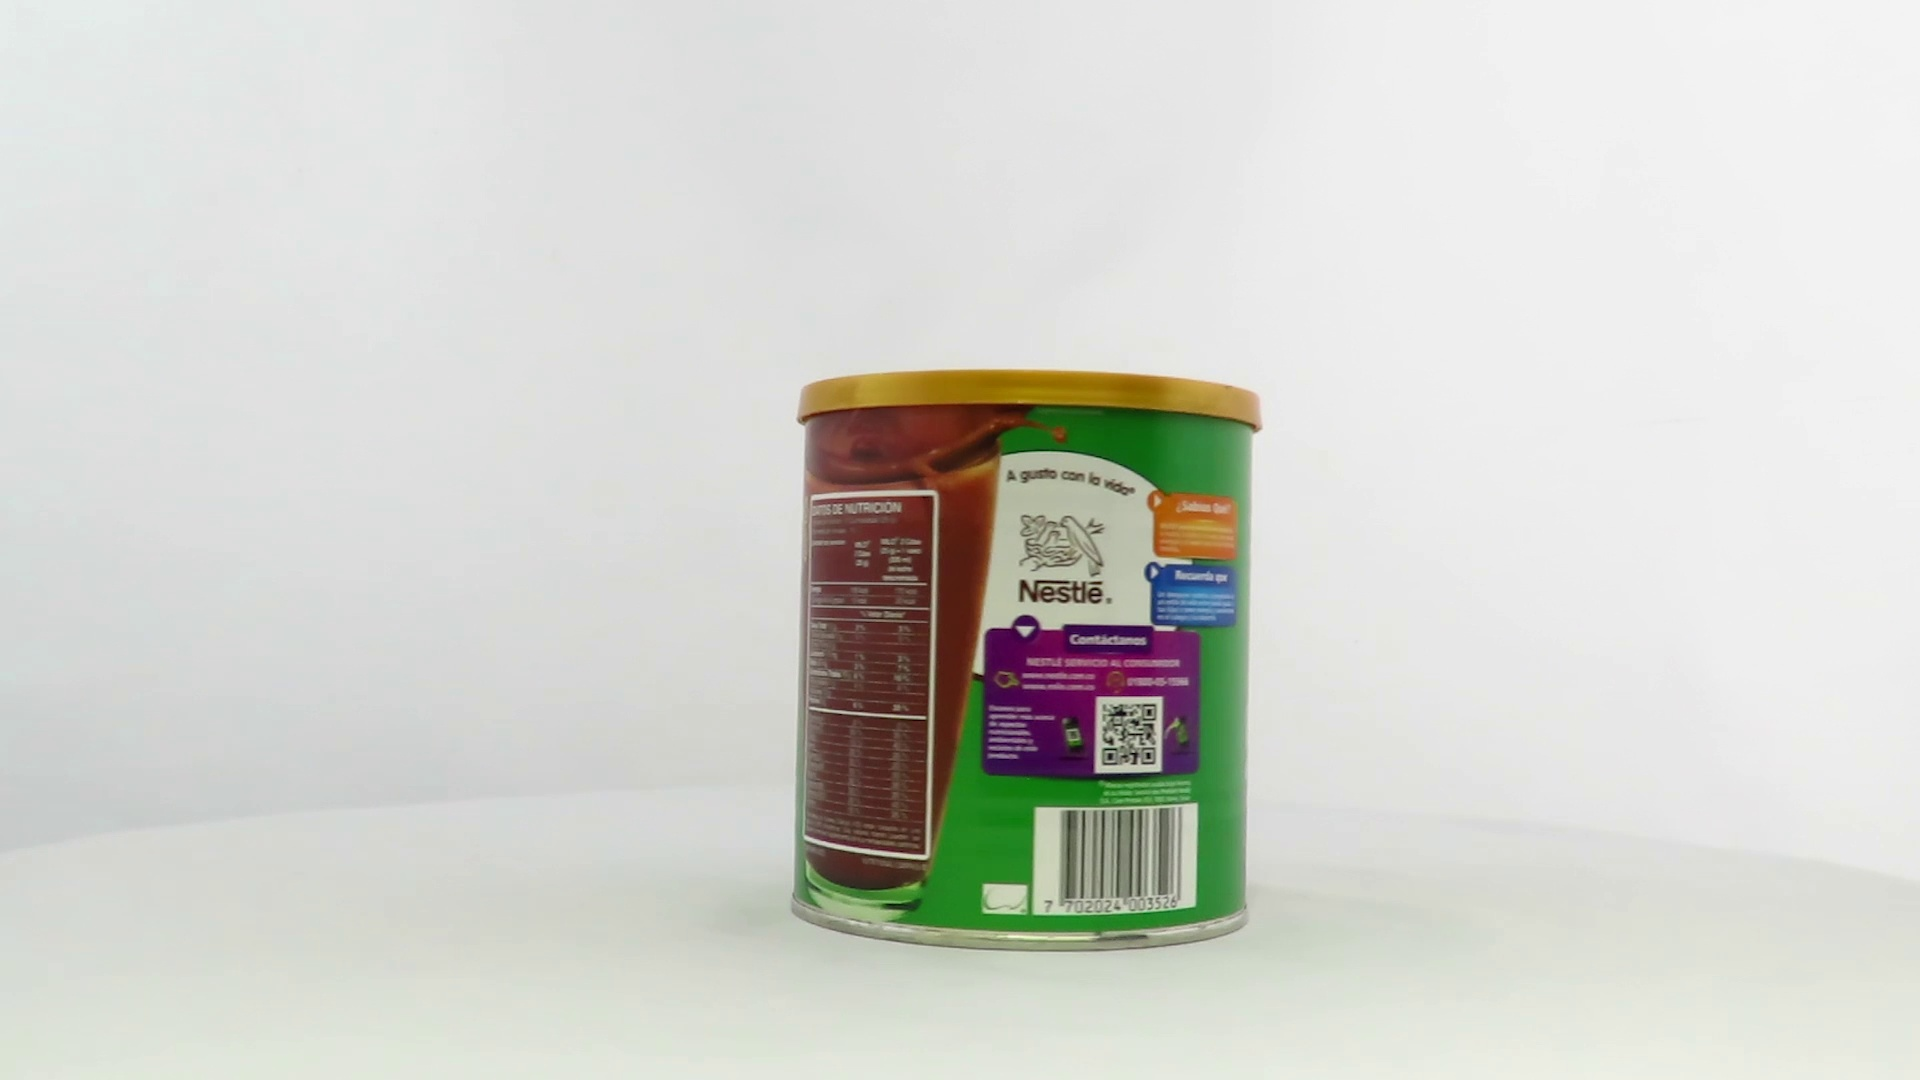COL0170203LAT40000: (785, 364, 1269, 957)
